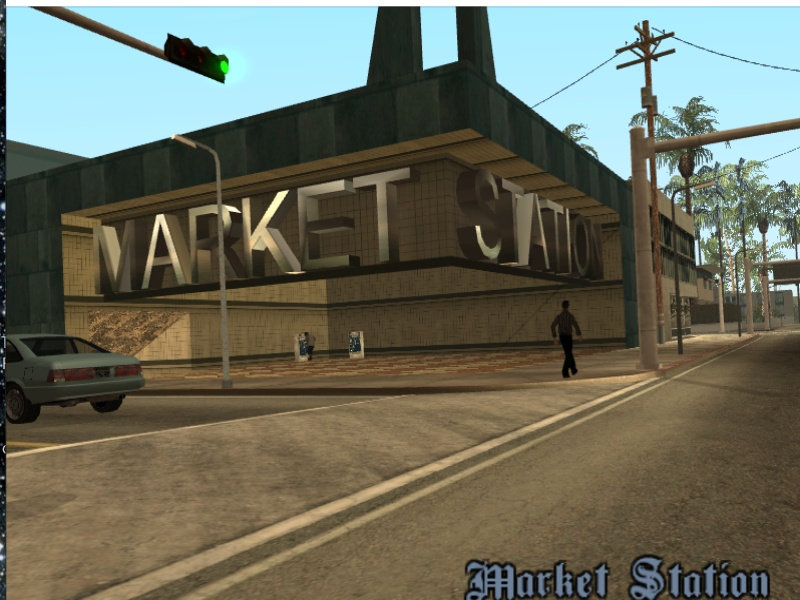person: (545, 301, 590, 382), (302, 330, 317, 360)
pole: (622, 130, 665, 375), (200, 146, 236, 389), (667, 191, 690, 355), (744, 259, 758, 339), (732, 254, 743, 339)
vehicle: (3, 335, 149, 427)
